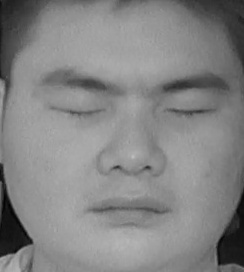blink: (54, 92, 107, 129), (164, 92, 215, 128)
mouth: (88, 185, 171, 229)
